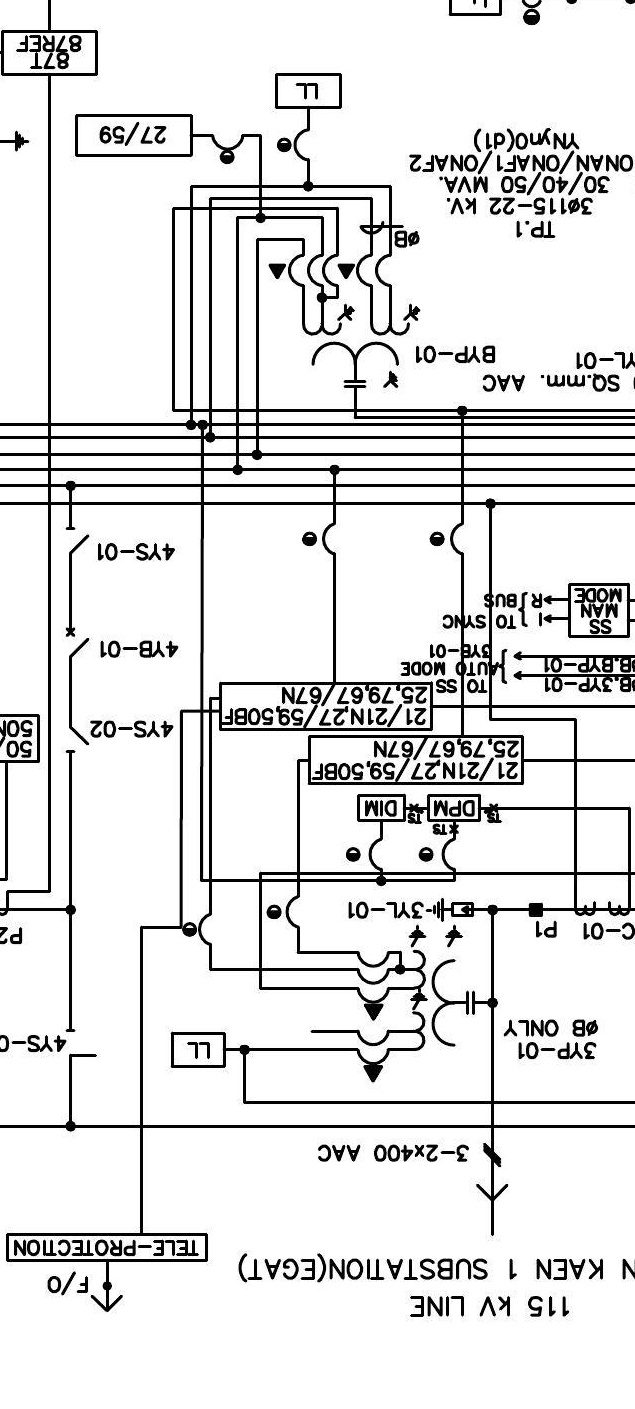115_breaker: (65, 627, 90, 658)
115_cvt_1p: (356, 923, 475, 1084)
115_cvt_3p: (301, 303, 421, 388)
115_ds: (65, 1028, 98, 1058), (64, 527, 90, 555), (65, 727, 90, 753)
115_la: (425, 897, 474, 923)
DIM: (356, 794, 406, 823)
DPM: (426, 794, 481, 823)
LL: (275, 73, 342, 109), (171, 1032, 226, 1068)
ss_man_mode: (568, 582, 631, 639)
tele_protection: (5, 1232, 209, 1263)
